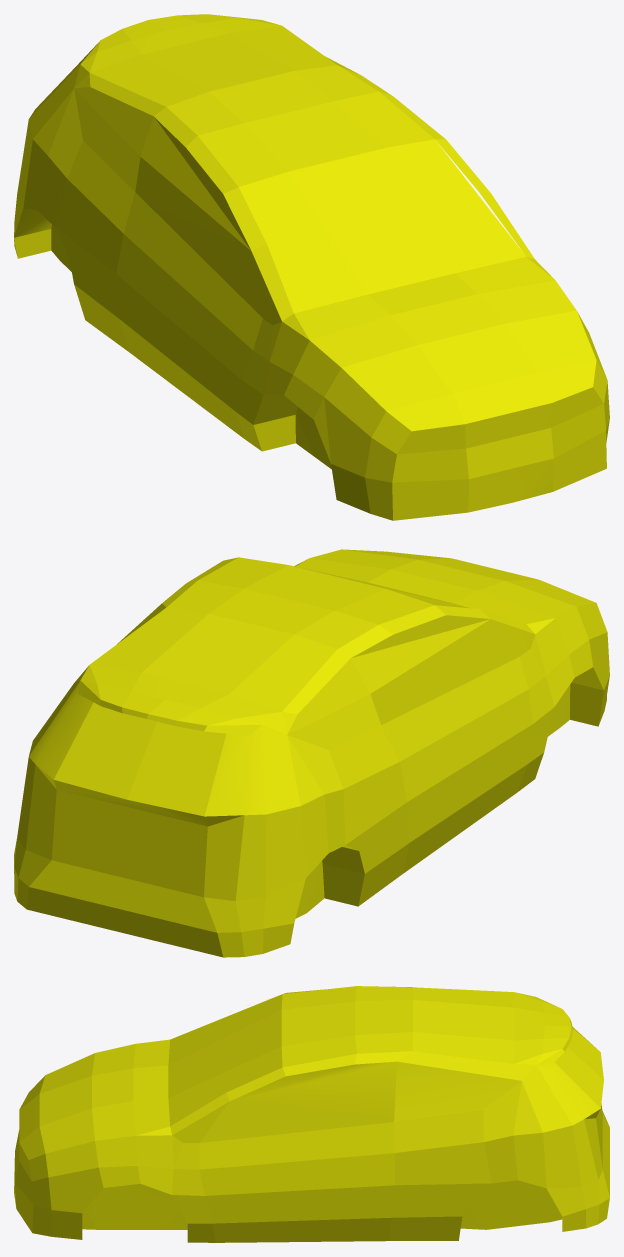
The model's file is SM_PolygonCity_Veh_Car_Small_01_Collision.glb.
3 renders of one model, top to bottom at view 1: azimuth 30°, elevation 25°; view 2: azimuth 150°, elevation 25°; view 3: azimuth 270°, elevation 25°, orthographic. The views are drawn at different scales.
Visible parts, largest first — view 1: SM_PolygonCity_Veh_Car_Small_01_Collision; view 2: SM_PolygonCity_Veh_Car_Small_01_Collision; view 3: SM_PolygonCity_Veh_Car_Small_01_Collision.
Boxes of the visible parts, x1,y1,x2,y2 form: SM_PolygonCity_Veh_Car_Small_01_Collision: [14, 14, 609, 520]; SM_PolygonCity_Veh_Car_Small_01_Collision: [14, 549, 609, 957]; SM_PolygonCity_Veh_Car_Small_01_Collision: [14, 986, 609, 1242].
Size of the model in its own units: 1.74 by 1.32 by 4.02.
1 material, 1 textured.
